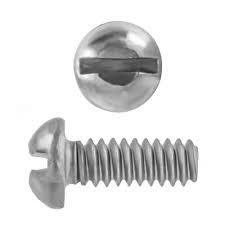screw: (72, 21, 161, 113)
